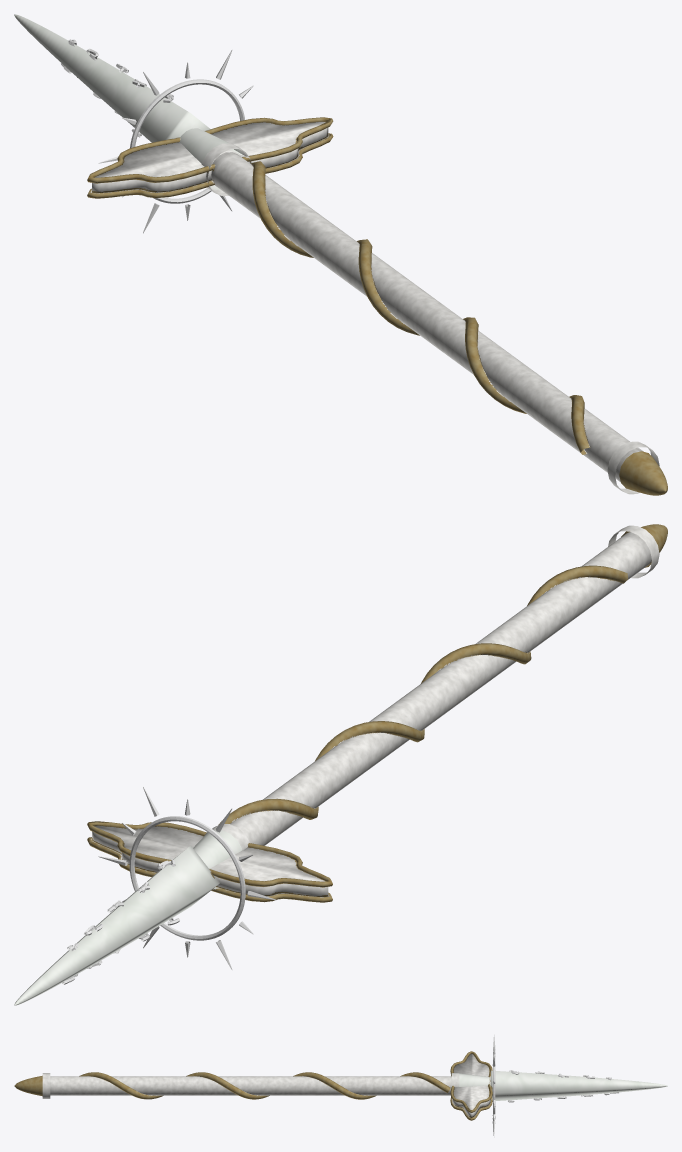
File: Spear10.fbx
The picture shows the model from 3 angles, top to bottom: view 1: azimuth 30°, elevation 25°; view 2: azimuth 150°, elevation 25°; view 3: azimuth 270°, elevation 25°; orthographic projection. The views are drawn at different scales.
Visible parts, largest first — view 1: Spear10_Body, Spear10_Glow_643cff; view 2: Spear10_Body, Spear10_Glow_643cff; view 3: Spear10_Body, Spear10_Glow_643cff.
Part boxes in pixels (bbox=[...]): Spear10_Body: bbox=[14, 14, 667, 495]; Spear10_Glow_643cff: bbox=[61, 39, 276, 233]; Spear10_Body: bbox=[14, 524, 667, 1005]; Spear10_Glow_643cff: bbox=[62, 786, 276, 984]; Spear10_Body: bbox=[14, 1051, 667, 1120]; Spear10_Glow_643cff: bbox=[492, 1034, 619, 1137].
Size of the model in its own units: 2.21 by 1.39 by 10.16.
Materials: 2 (1 with a texture image).
